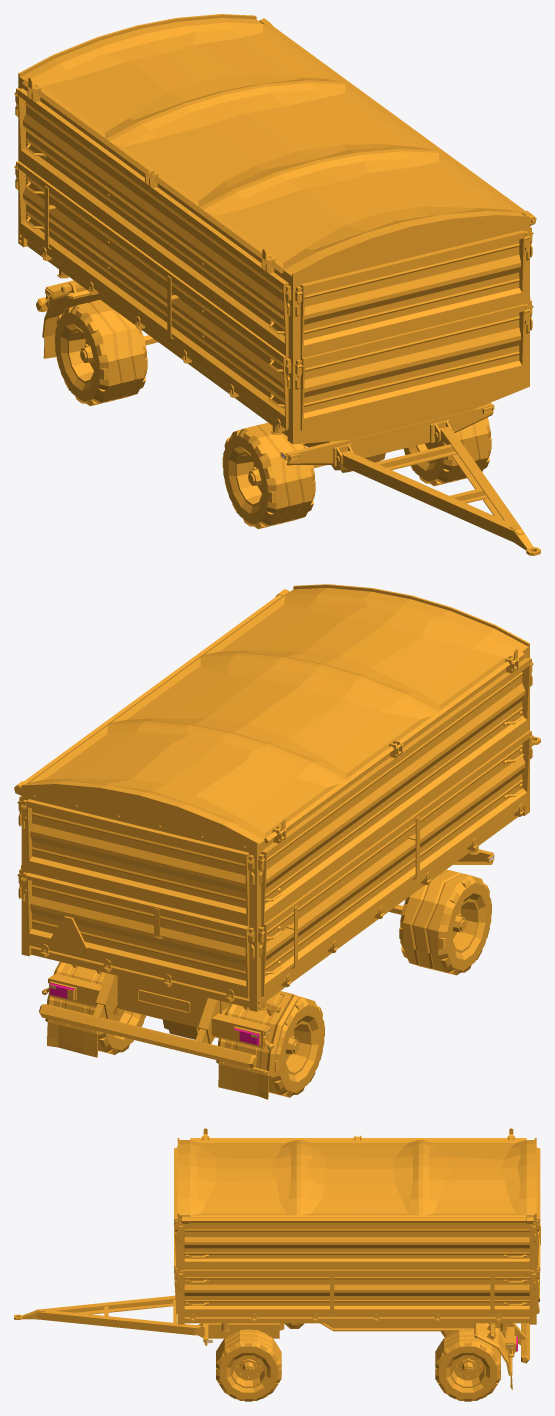
File: SM_Trailer_Tractor_Big.fbx
The picture shows the model from 3 angles, top to bottom: view 1: azimuth 30°, elevation 25°; view 2: azimuth 150°, elevation 25°; view 3: azimuth 270°, elevation 25°; orthographic projection. The views are drawn at different scales.
Visible parts, largest first — view 1: trailer-tractor-big-extension-b, trailer-tractor-big-cargo, trailer-tractor-big-extension-a, trailer-tractor-big-wheels-ba, trailer-tractor-big-wheel-fr, trailer-tractor-big-connector, trailer-tractor-big-front, trailer-tractor-big-wheel-fl, trailer-tractor-big-base; view 2: trailer-tractor-big-extension-b, trailer-tractor-big-extension-a, trailer-tractor-big-cargo, trailer-tractor-big-base, trailer-tractor-big-door, trailer-tractor-big-wheel-fr, trailer-tractor-big-wheels-ba; view 3: trailer-tractor-big-extension-b, trailer-tractor-big-cargo, trailer-tractor-big-extension-a, trailer-tractor-big-wheel-fl, trailer-tractor-big-wheels-ba, trailer-tractor-big-connector, trailer-tractor-big-base, trailer-tractor-big-front.
Part boxes in pixels (left/top/right/bottom): trailer-tractor-big-extension-b: left=18, top=14, right=536, bottom=285; trailer-tractor-big-cargo: left=14, top=158, right=533, bottom=444; trailer-tractor-big-extension-a: left=14, top=85, right=533, bottom=358; trailer-tractor-big-wheels-ba: left=54, top=299, right=157, bottom=406; trailer-tractor-big-wheel-fr: left=222, top=422, right=326, bottom=529; trailer-tractor-big-connector: left=341, top=426, right=540, bottom=555; trailer-tractor-big-front: left=280, top=402, right=494, bottom=472; trailer-tractor-big-wheel-fl: left=403, top=417, right=491, bottom=486; trailer-tractor-big-base: left=36, top=280, right=99, bottom=358; trailer-tractor-big-extension-b: left=14, top=584, right=529, bottom=854; trailer-tractor-big-extension-a: left=17, top=655, right=533, bottom=926; trailer-tractor-big-cargo: left=17, top=727, right=533, bottom=1011; trailer-tractor-big-base: left=39, top=962, right=297, bottom=1099; trailer-tractor-big-door: left=26, top=873, right=249, bottom=999; trailer-tractor-big-wheel-fr: left=389, top=869, right=491, bottom=975; trailer-tractor-big-wheels-ba: left=98, top=996, right=324, bottom=1097; trailer-tractor-big-extension-b: left=177, top=1128, right=536, bottom=1223; trailer-tractor-big-cargo: left=174, top=1226, right=539, bottom=1332; trailer-tractor-big-extension-a: left=174, top=1148, right=540, bottom=1269; trailer-tractor-big-wheel-fl: left=216, top=1329, right=281, bottom=1401; trailer-tractor-big-wheels-ba: left=435, top=1329, right=500, bottom=1401; trailer-tractor-big-connector: left=14, top=1295, right=200, bottom=1335; trailer-tractor-big-base: left=320, top=1323, right=529, bottom=1389; trailer-tractor-big-front: left=197, top=1323, right=304, bottom=1345.
Bounding box in the file's own units: 2.52 × 2.94 × 6.9.
